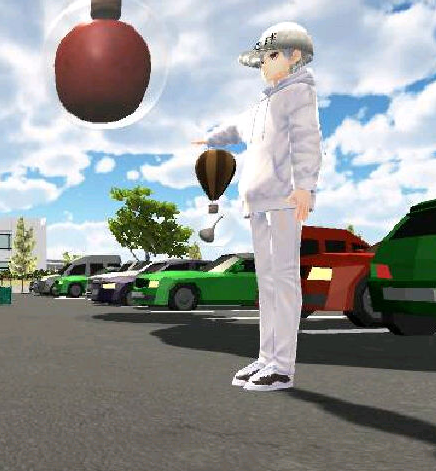singleP_left: (190, 23, 319, 391)
